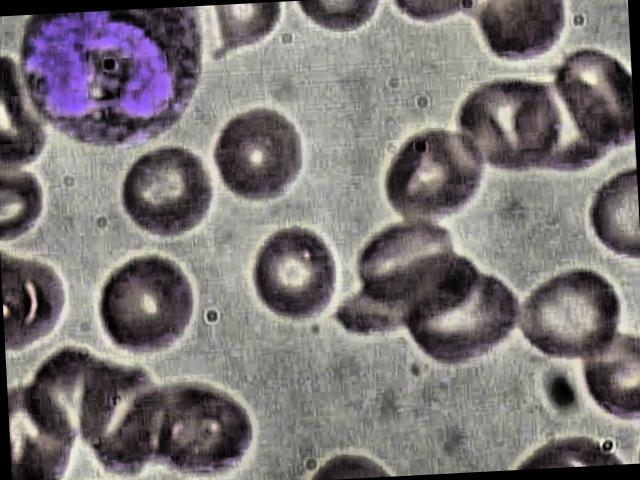RBC: (393, 256, 527, 376), (320, 248, 485, 344), (354, 123, 502, 230), (510, 259, 628, 373), (85, 246, 202, 360), (452, 75, 570, 187), (145, 372, 262, 480), (205, 101, 318, 212), (115, 138, 216, 246), (241, 219, 342, 327), (469, 0, 574, 73)
WBC: (15, 5, 212, 156)
